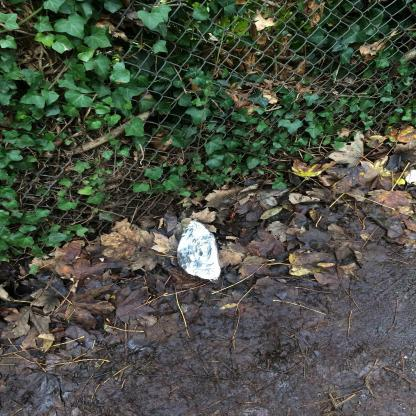metal: (178, 221, 223, 282)
